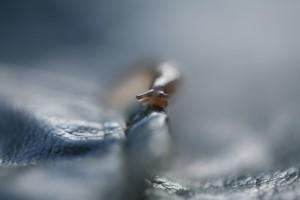slug: (104, 41, 206, 123)
